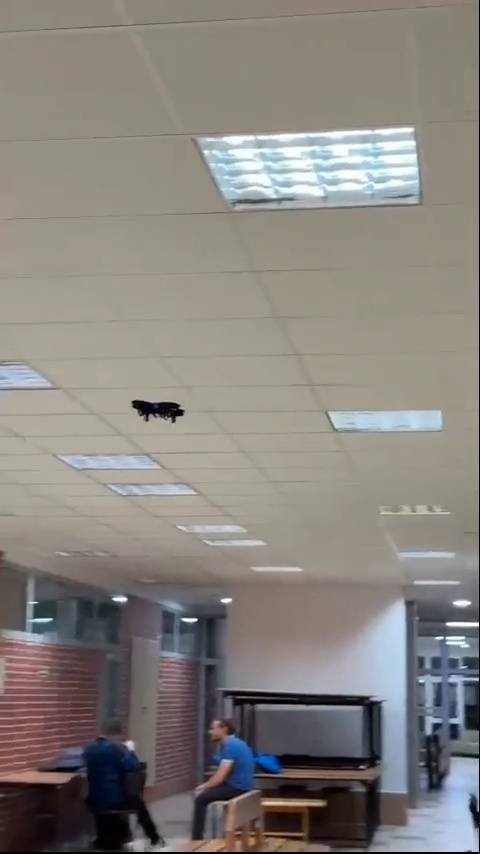drone: (130, 395, 184, 423)
no vest: (80, 715, 167, 842), (189, 718, 254, 815)
